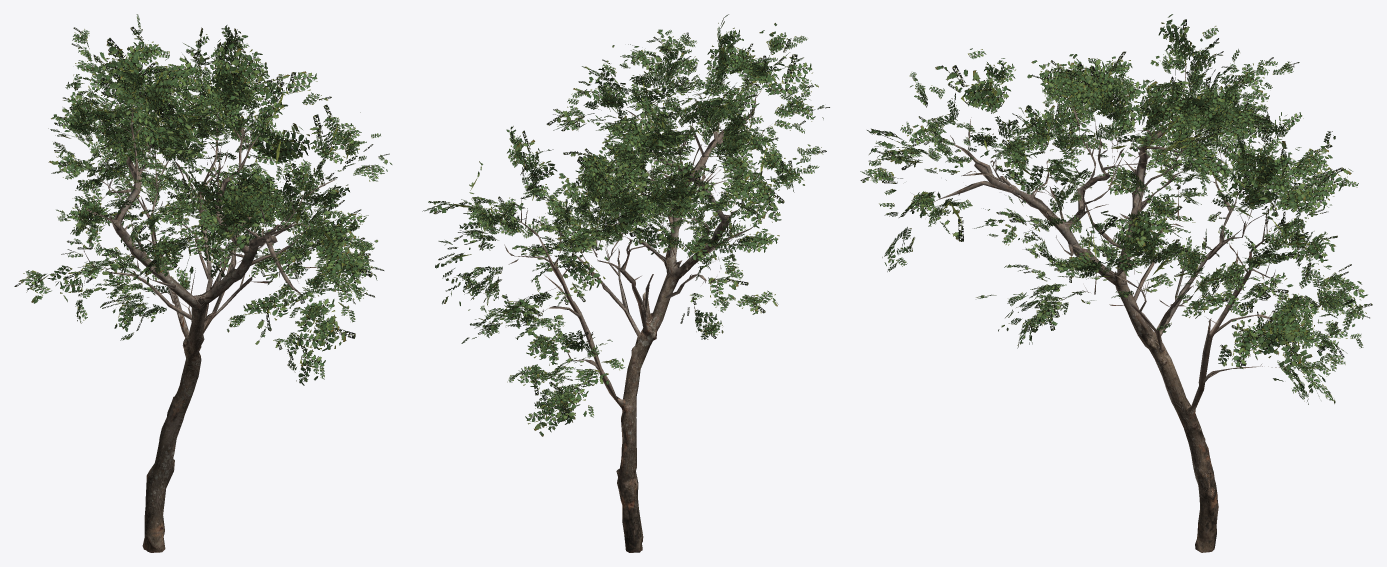
Rendered from tree-small-02.gltf.
The picture shows the model from 3 angles, left to right: view 1: azimuth 30°, elevation 25°; view 2: azimuth 150°, elevation 25°; view 3: azimuth 270°, elevation 25°; orthographic projection. The views are drawn at different scales.
Visible parts, largest first — view 1: TreeSmall02_LOD0; view 2: TreeSmall02_LOD0; view 3: TreeSmall02_LOD0.
Boxes of the visible parts, bbox=[...] form: TreeSmall02_LOD0: bbox=[14, 14, 392, 552]; TreeSmall02_LOD0: bbox=[422, 14, 829, 552]; TreeSmall02_LOD0: bbox=[860, 14, 1372, 552].
Size of what is drawn, in the model's own units: 2.96 by 4.58 by 4.26.
Materials: 3 (3 with a texture image).
